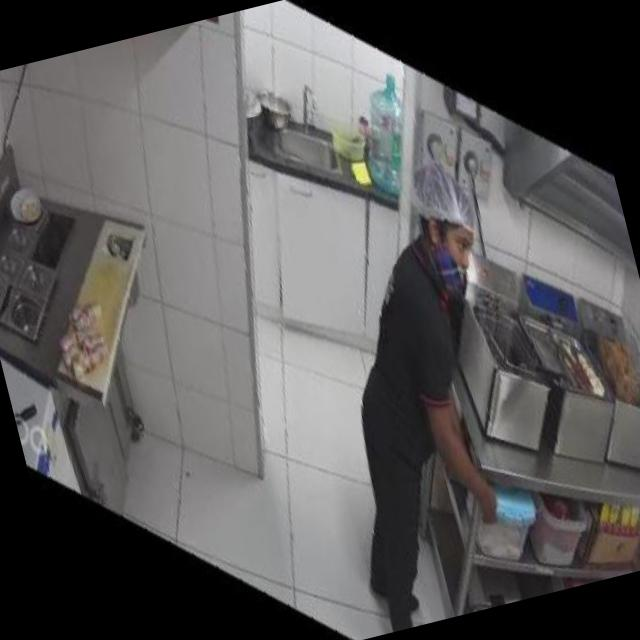hairnet: (408, 150, 478, 240)
